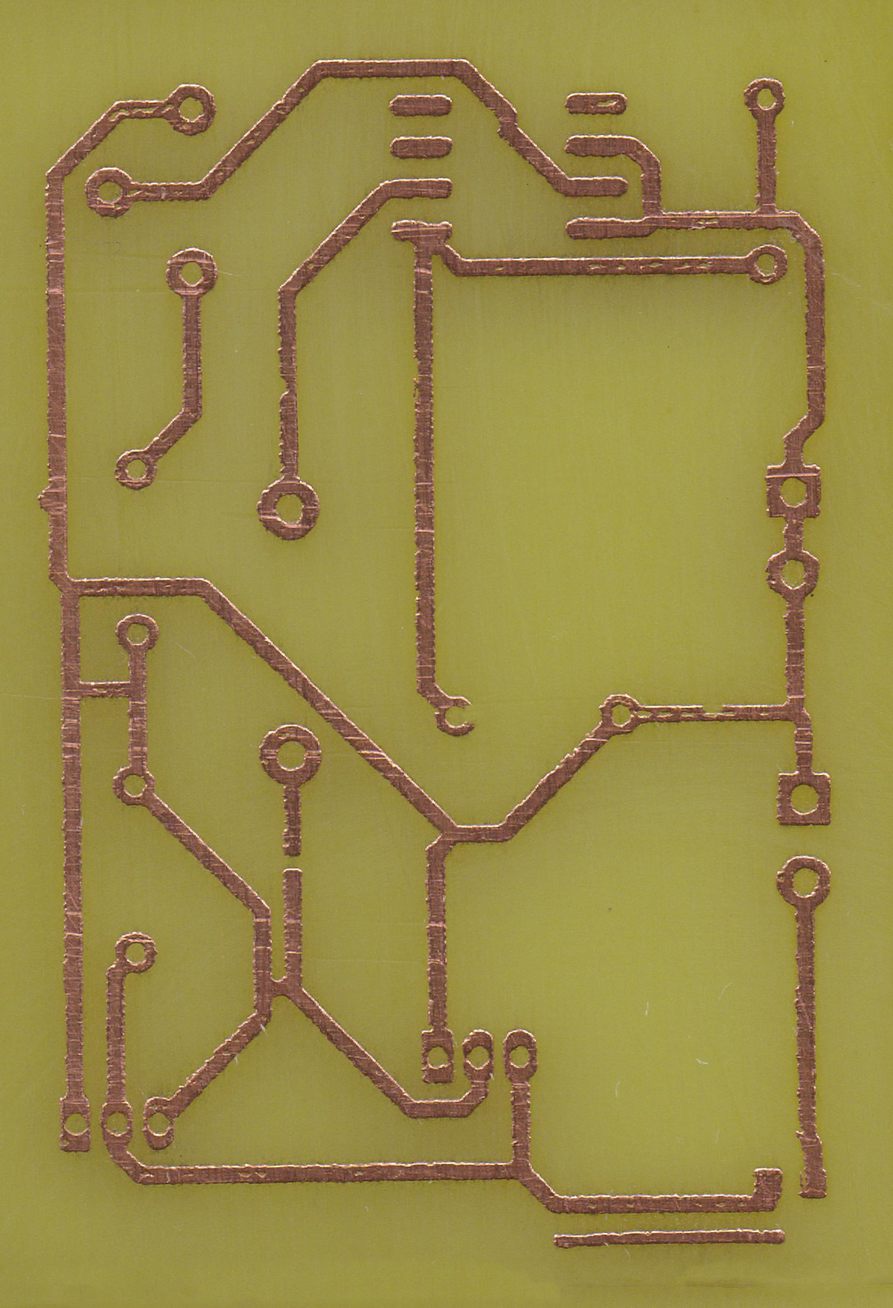missing_hole: (435, 697, 476, 738)
mouse_bite: (277, 373, 294, 405), (698, 701, 726, 719)
open_circuit: (283, 838, 303, 887)
short: (59, 672, 149, 706)
spur: (36, 483, 66, 518)
spurious_copper: (552, 1227, 789, 1249)
